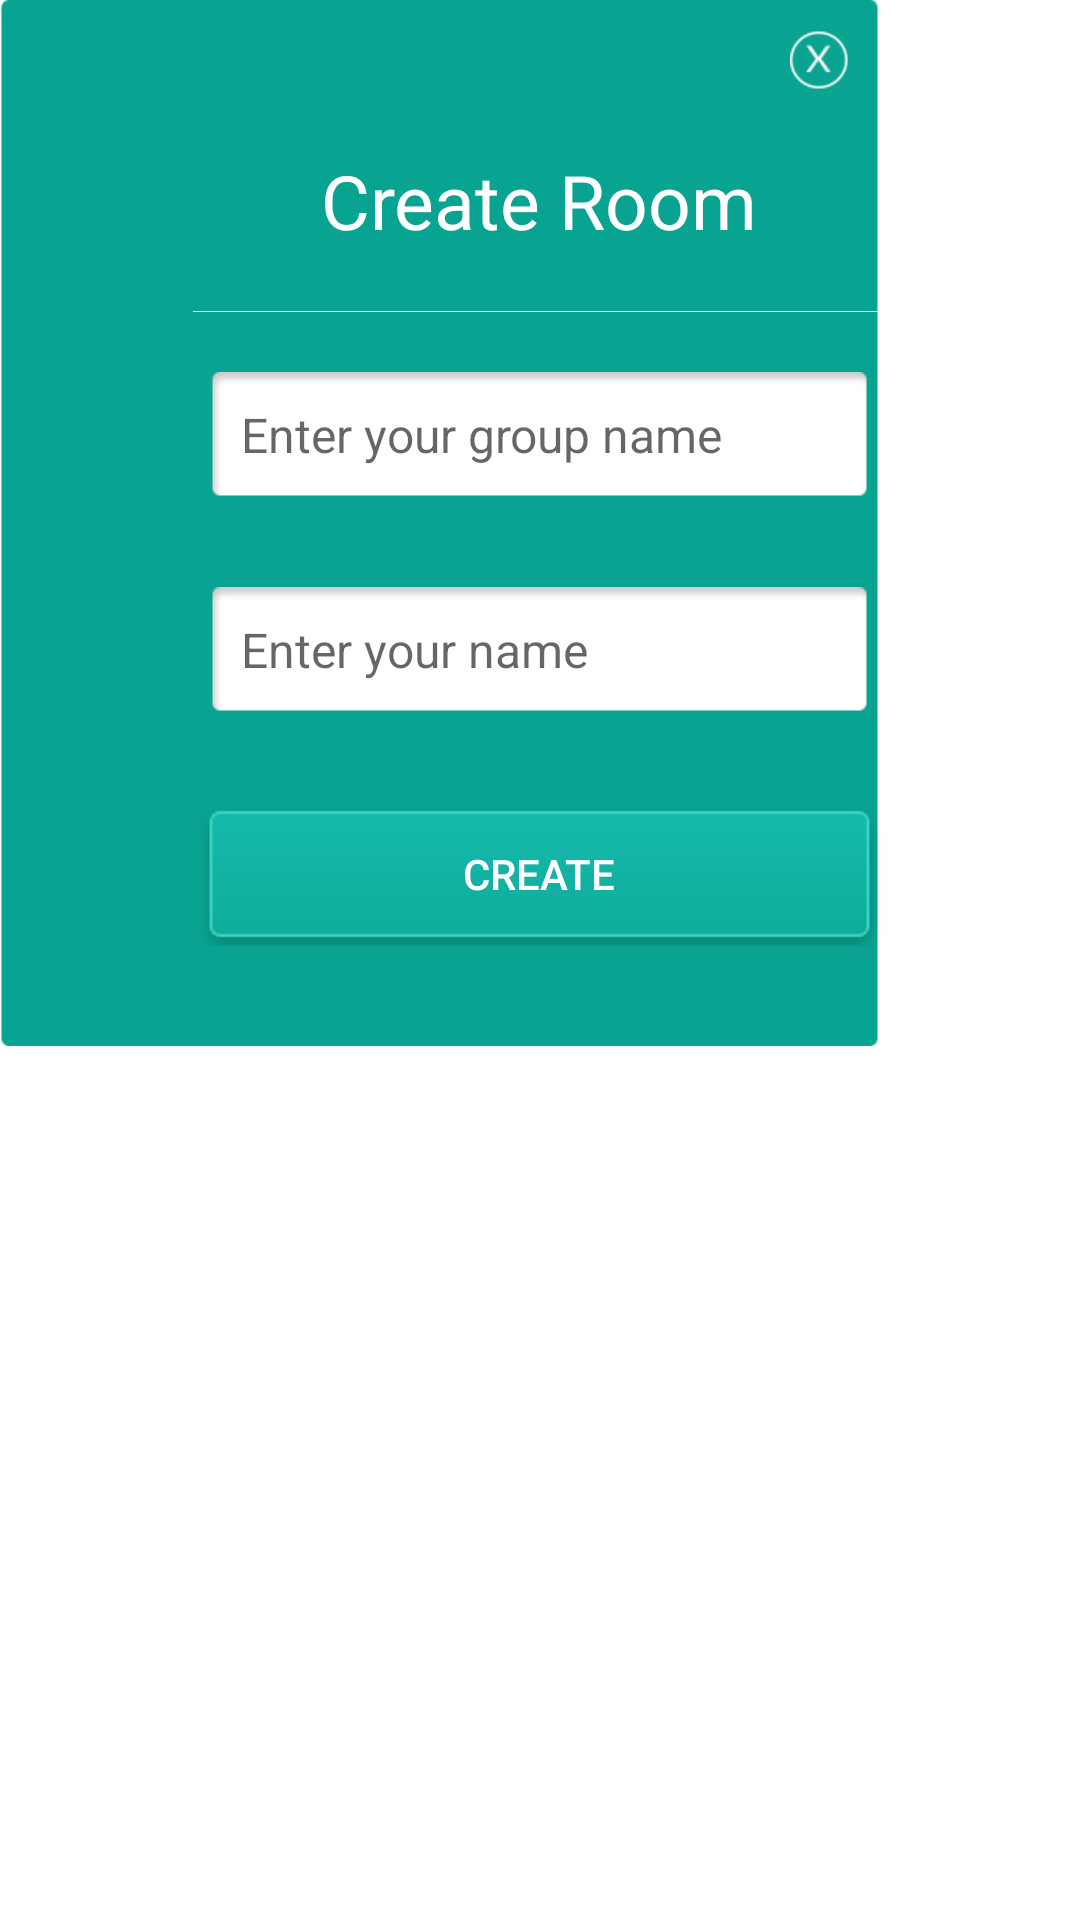

Icon bounding boxes for this 1080*1920 phone screenshot, format (x1, y1, x2, y2):
close: (790, 31, 848, 89)
